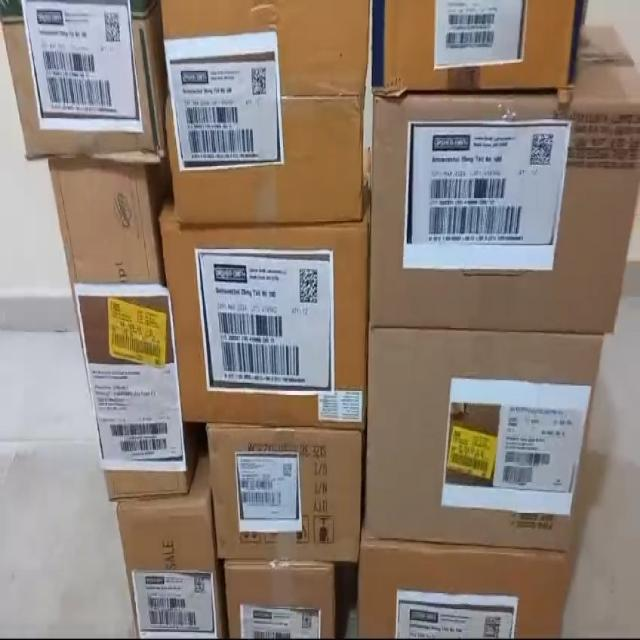BoxFace: (371, 97, 640, 334), (364, 320, 610, 541), (47, 155, 187, 497), (160, 206, 373, 430), (162, 8, 373, 224), (1, 5, 165, 167), (208, 427, 364, 570), (355, 537, 568, 640), (372, 0, 585, 93), (119, 494, 218, 640), (218, 561, 336, 640)
